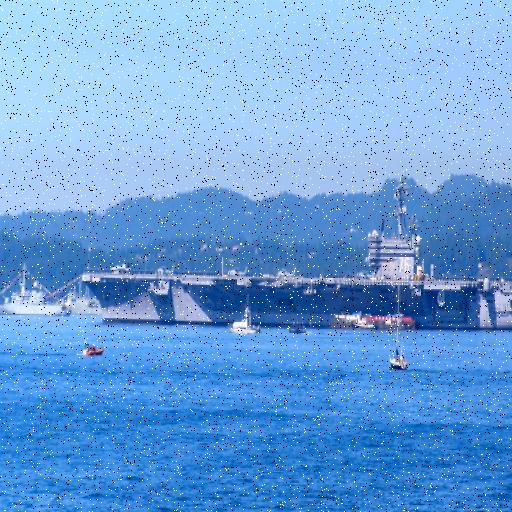Portanaves: (84, 174, 512, 335)
